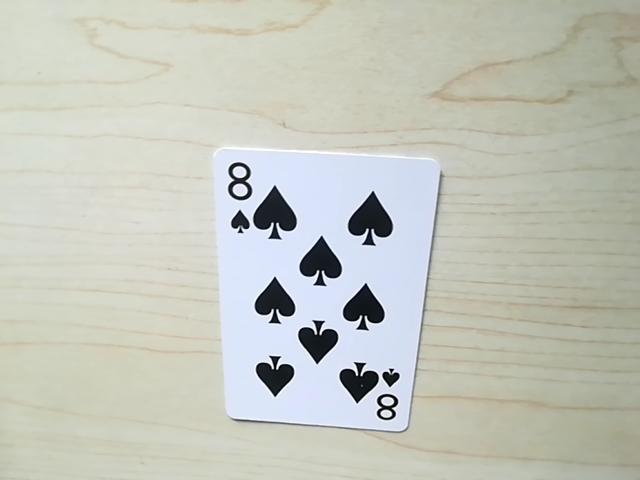ht 8: (219, 156, 260, 234), (368, 368, 407, 429)
